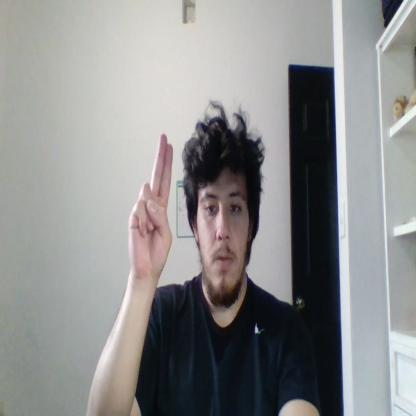U: (129, 134, 173, 280)
